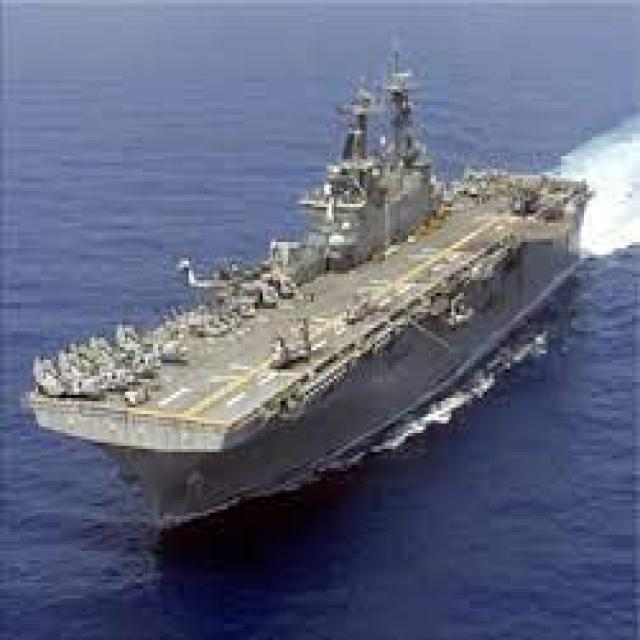navalvessels: (26, 29, 619, 538)
